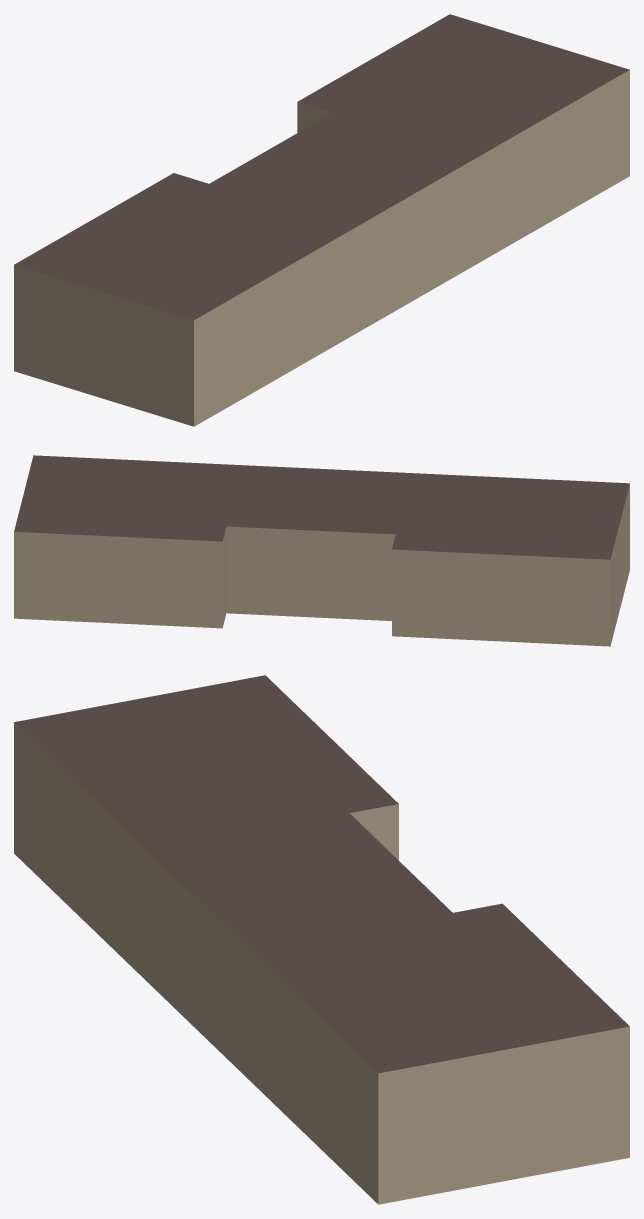
The picture shows the model from 3 angles, top to bottom: view 1: azimuth 30°, elevation 25°; view 2: azimuth 150°, elevation 25°; view 3: azimuth 270°, elevation 25°; orthographic projection. The views are drawn at different scales.
Visible parts, largest first — view 1: HP-w859488695; view 2: HP-w859488695; view 3: HP-w859488695.
Boxes of the visible parts, box(x1,y1,x2,y2) form: HP-w859488695: box(14, 14, 629, 426); HP-w859488695: box(14, 455, 629, 646); HP-w859488695: box(14, 675, 629, 1204).
Bounding box in the file's own units: 58.53 × 9 × 38.26.
